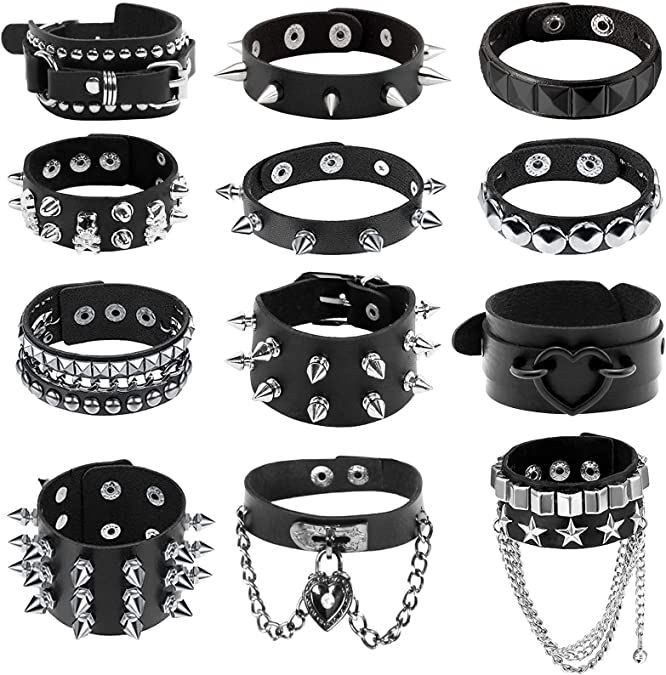cuero: (2, 2, 666, 636)
